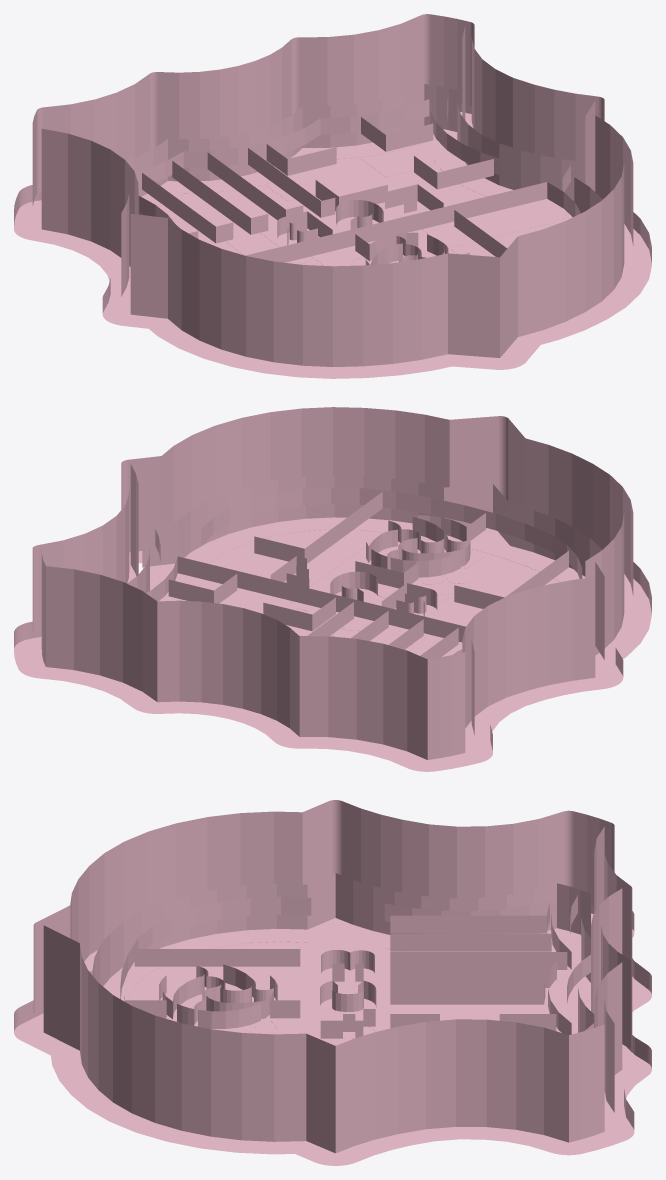
File: cortador-barcelona.glb
The picture shows the model from 3 angles, top to bottom: view 1: azimuth 30°, elevation 25°; view 2: azimuth 150°, elevation 25°; view 3: azimuth 270°, elevation 25°; orthographic projection. The views are drawn at different scales.
Parts seen in each view (by area): view 1: pieza; view 2: pieza; view 3: pieza.
Boxes of the visible parts, x1,y1,x2,y2 form: pieza: (14, 14, 651, 378); pieza: (14, 407, 651, 771); pieza: (14, 800, 651, 1165).
Bounding box in the file's own units: 0.0639 × 0.012 × 0.0646.
